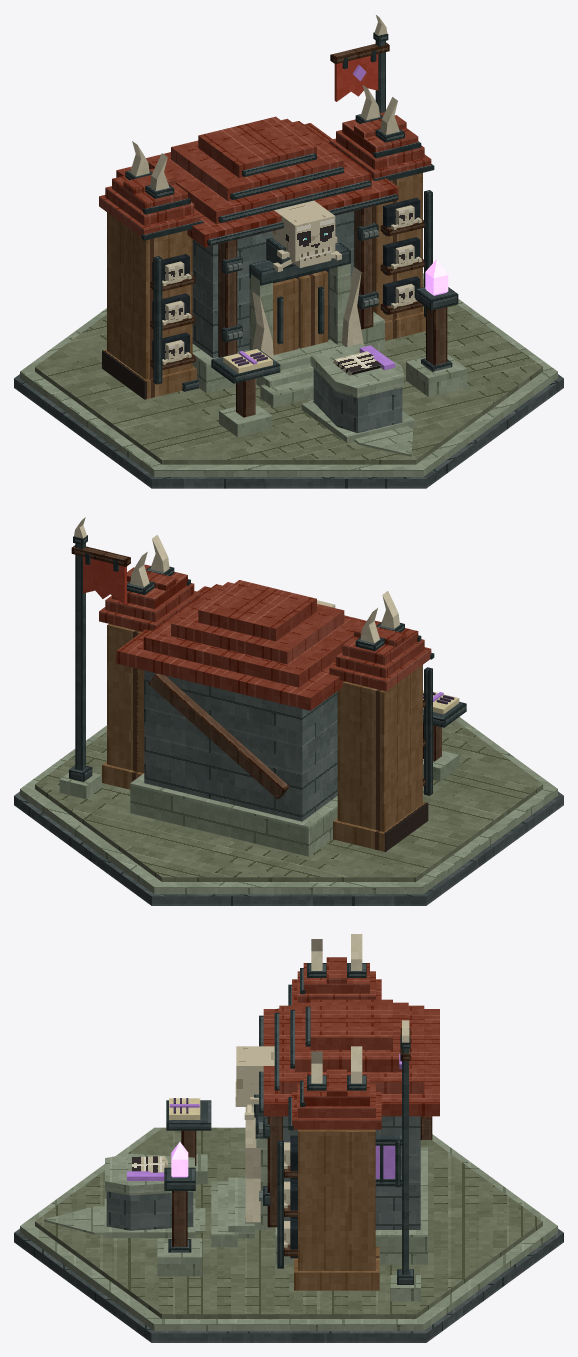
The model's file is orc_necromancy_ossuary_hex_v1.glb.
3 views of the same model, one above another, from view 1: azimuth 30°, elevation 25°; view 2: azimuth 150°, elevation 25°; view 3: azimuth 270°, elevation 25° (orthographic).
Visible parts, largest first — view 1: Orc_Necromancy_Ossuary_Hex_V1_Foundation, Orc_Necromancy_Ossuary_Hex_V1_Hall, Orc_Necromancy_Ossuary_Hex_V1_Roofs, Orc_Necromancy_Ossuary_Hex_V1_Focus, Orc_Necromancy_Ossuary_Hex_V1_Training, Orc_Necromancy_Ossuary_Hex_V1_Details, Orc_Necromancy_Ossuary_Hex_V1_Courtyard, Orc_Necromancy_Ossuary_Hex_V1_Faction; view 2: Orc_Necromancy_Ossuary_Hex_V1_Hall, Orc_Necromancy_Ossuary_Hex_V1_Foundation, Orc_Necromancy_Ossuary_Hex_V1_Roofs, Orc_Necromancy_Ossuary_Hex_V1_Faction, Orc_Necromancy_Ossuary_Hex_V1_Details, Orc_Necromancy_Ossuary_Hex_V1_Training, Orc_Necromancy_Ossuary_Hex_V1_Focus; view 3: Orc_Necromancy_Ossuary_Hex_V1_Foundation, Orc_Necromancy_Ossuary_Hex_V1_Roofs, Orc_Necromancy_Ossuary_Hex_V1_Hall, Orc_Necromancy_Ossuary_Hex_V1_Focus, Orc_Necromancy_Ossuary_Hex_V1_Training, Orc_Necromancy_Ossuary_Hex_V1_Details, Orc_Necromancy_Ossuary_Hex_V1_Courtyard, Orc_Necromancy_Ossuary_Hex_V1_Faction.
Part boxes in pixels (<box>): Orc_Necromancy_Ossuary_Hex_V1_Foundation: <box>14,273,563,488</box>; Orc_Necromancy_Ossuary_Hex_V1_Hall: <box>102,173,425,399</box>; Orc_Necromancy_Ossuary_Hex_V1_Roofs: <box>99,112,434,247</box>; Orc_Necromancy_Ossuary_Hex_V1_Focus: <box>150,190,467,396</box>; Orc_Necromancy_Ossuary_Hex_V1_Training: <box>182,343,415,442</box>; Orc_Necromancy_Ossuary_Hex_V1_Details: <box>130,85,399,359</box>; Orc_Necromancy_Ossuary_Hex_V1_Courtyard: <box>256,339,413,456</box>; Orc_Necromancy_Ossuary_Hex_V1_Faction: <box>330,15,389,113</box>; Orc_Necromancy_Ossuary_Hex_V1_Hall: <box>102,624,428,856</box>; Orc_Necromancy_Ossuary_Hex_V1_Foundation: <box>14,690,563,905</box>; Orc_Necromancy_Ossuary_Hex_V1_Roofs: <box>99,564,434,710</box>; Orc_Necromancy_Ossuary_Hex_V1_Faction: <box>59,517,130,798</box>; Orc_Necromancy_Ossuary_Hex_V1_Details: <box>130,535,399,799</box>; Orc_Necromancy_Ossuary_Hex_V1_Training: <box>423,691,466,781</box>; Orc_Necromancy_Ossuary_Hex_V1_Focus: <box>317,600,432,795</box>; Orc_Necromancy_Ossuary_Hex_V1_Foundation: <box>14,1127,563,1342</box>; Orc_Necromancy_Ossuary_Hex_V1_Roofs: <box>259,957,439,1130</box>; Orc_Necromancy_Ossuary_Hex_V1_Hall: <box>255,1116,427,1290</box>; Orc_Necromancy_Ossuary_Hex_V1_Focus: <box>157,1008,297,1276</box>; Orc_Necromancy_Ossuary_Hex_V1_Training: <box>104,1098,211,1237</box>; Orc_Necromancy_Ossuary_Hex_V1_Details: <box>245,934,432,1227</box>; Orc_Necromancy_Ossuary_Hex_V1_Courtyard: <box>44,1173,271,1246</box>; Orc_Necromancy_Ossuary_Hex_V1_Faction: <box>390,1020,420,1301</box>.
Size of the model in its own units: 1.59 by 1.08 by 1.84.
Materials: 1 (1 with a texture image).
